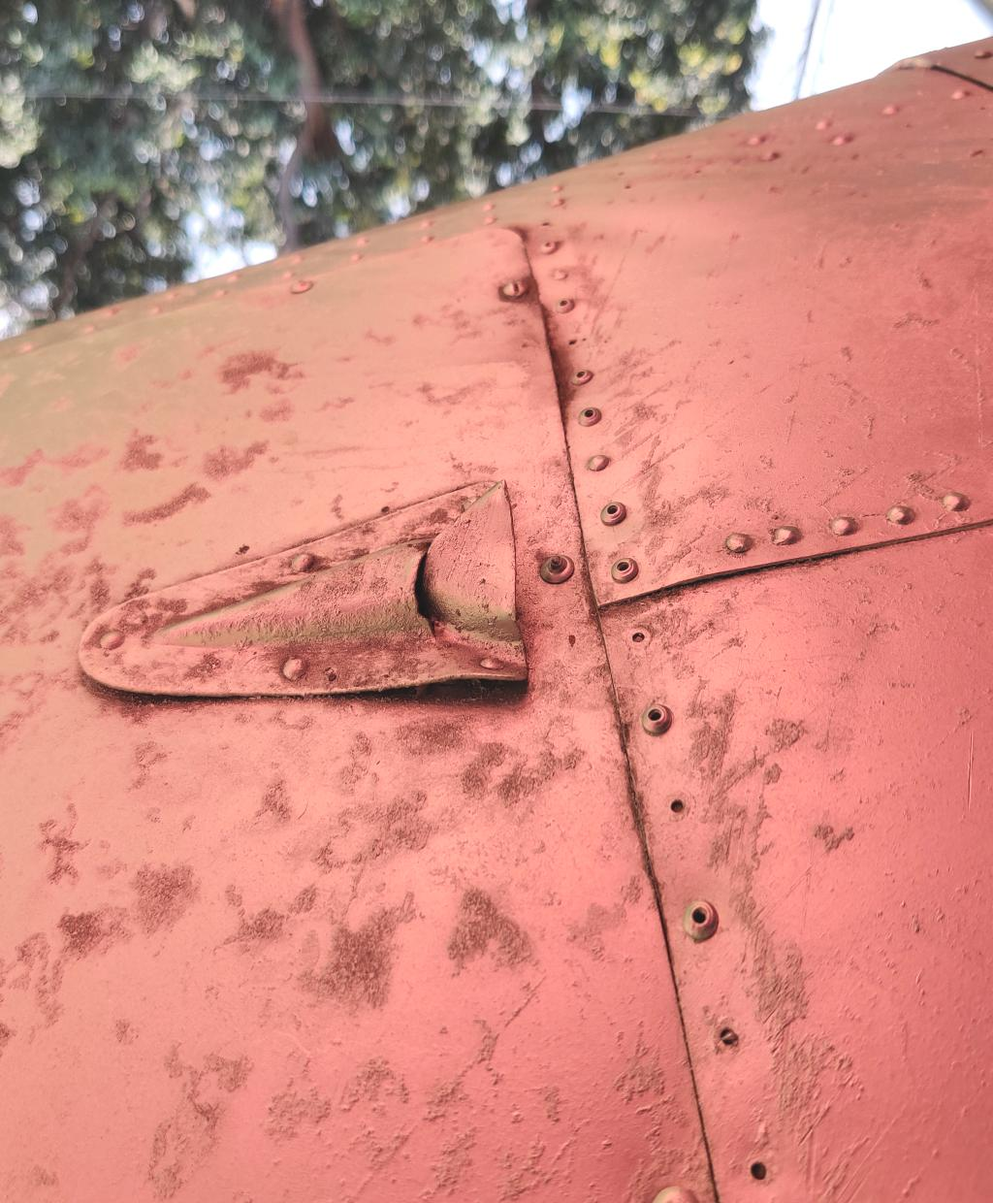crack: (394, 522, 465, 668)
